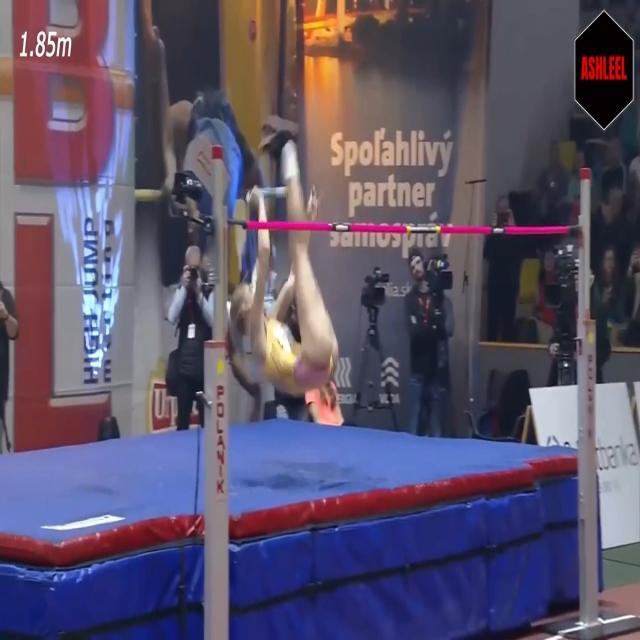land: (231, 114, 339, 396)
